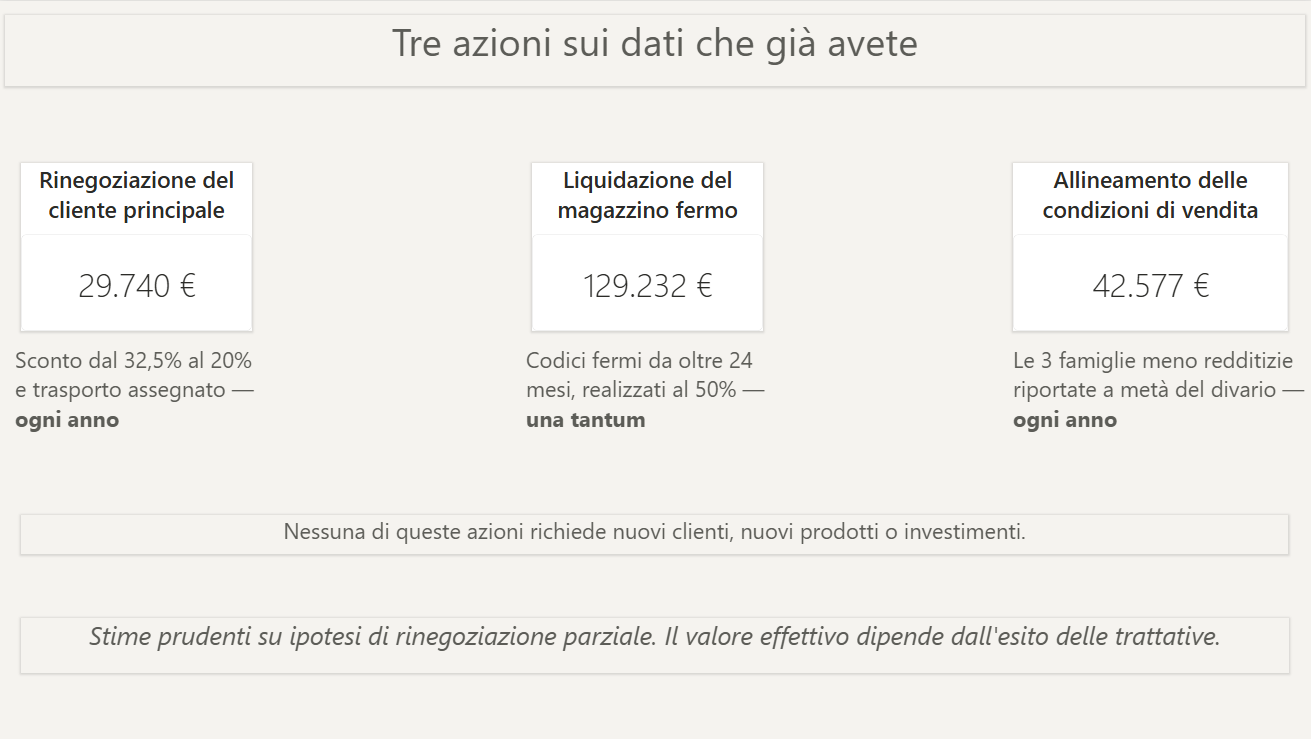

The page's visual inventory and layout, read from the dashboard file:
{"tool":"powerbi","page":{"name":"Cosa si può recuperare","canvas":[1920,1080],"ordinal":4},"visuals":[{"type":"textbox","box":[10.2,20.4,1896.7,103.6],"z":0},{"type":"cardVisual","title":"Rinegoziazione del cliente principale","fields":{"Data":["_Misure.Lbl Recupero Cliente Top"]},"box":[33.6,236.4,337,245.1],"z":1000},{"type":"cardVisual","title":"Liquidazione del magazzino fermo","fields":{"Data":["_Misure.Lbl Recupero Magazzino Fermo"]},"box":[779.1,236.4,337,245.1],"z":2000},{"type":"cardVisual","title":"Allineamento delle condizioni di vendita","fields":{"Data":["_Misure.Lbl Recupero Condizioni Vendita"]},"box":[1480.9,236.4,401.2,245.1],"z":3000},{"type":"textbox","box":[33.6,750,1848.5,56.9],"z":4000},{"type":"textbox","box":[33.6,900,1850,80.2],"z":5000},{"type":"textbox","box":[24.8,500.4,357.4,138.6],"z":5001},{"type":"textbox","box":[770,500.4,372,150.3],"z":5002},{"type":"textbox","box":[1480.9,500.4,426,150.3],"z":5003}]}

Visuals, with their boxes in screenshot pixels (x1, y1, x2, y2), scaled from the page's 1920x1080 canvas onto the 1311x739 screenshot:
textbox: [x1=7, y1=14, x2=1302, y2=85]
"Rinegoziazione del cliente principale" cardVisual: [x1=23, y1=162, x2=253, y2=329]
"Liquidazione del magazzino fermo" cardVisual: [x1=532, y1=162, x2=762, y2=329]
"Allineamento delle condizioni di vendita" cardVisual: [x1=1011, y1=162, x2=1285, y2=329]
textbox: [x1=23, y1=513, x2=1285, y2=552]
textbox: [x1=23, y1=616, x2=1286, y2=671]
textbox: [x1=17, y1=342, x2=261, y2=437]
textbox: [x1=526, y1=342, x2=780, y2=445]
textbox: [x1=1011, y1=342, x2=1302, y2=445]
